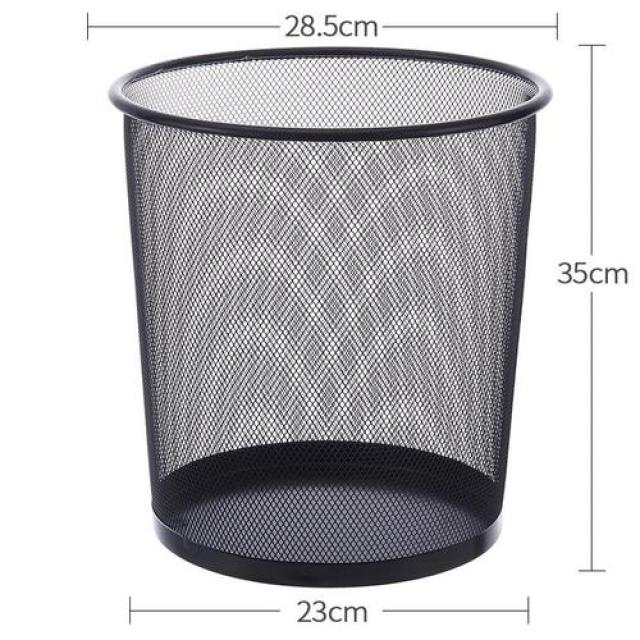dustbin: (107, 39, 553, 592)
